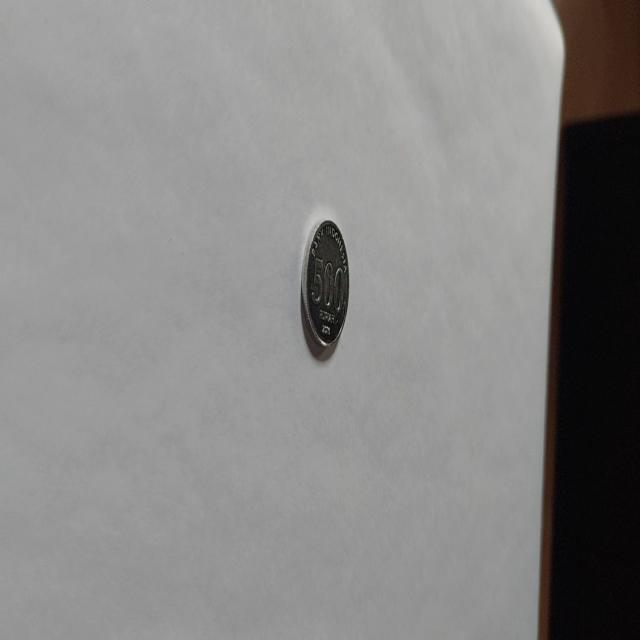lima ratus rupiah: (300, 216, 350, 356)
